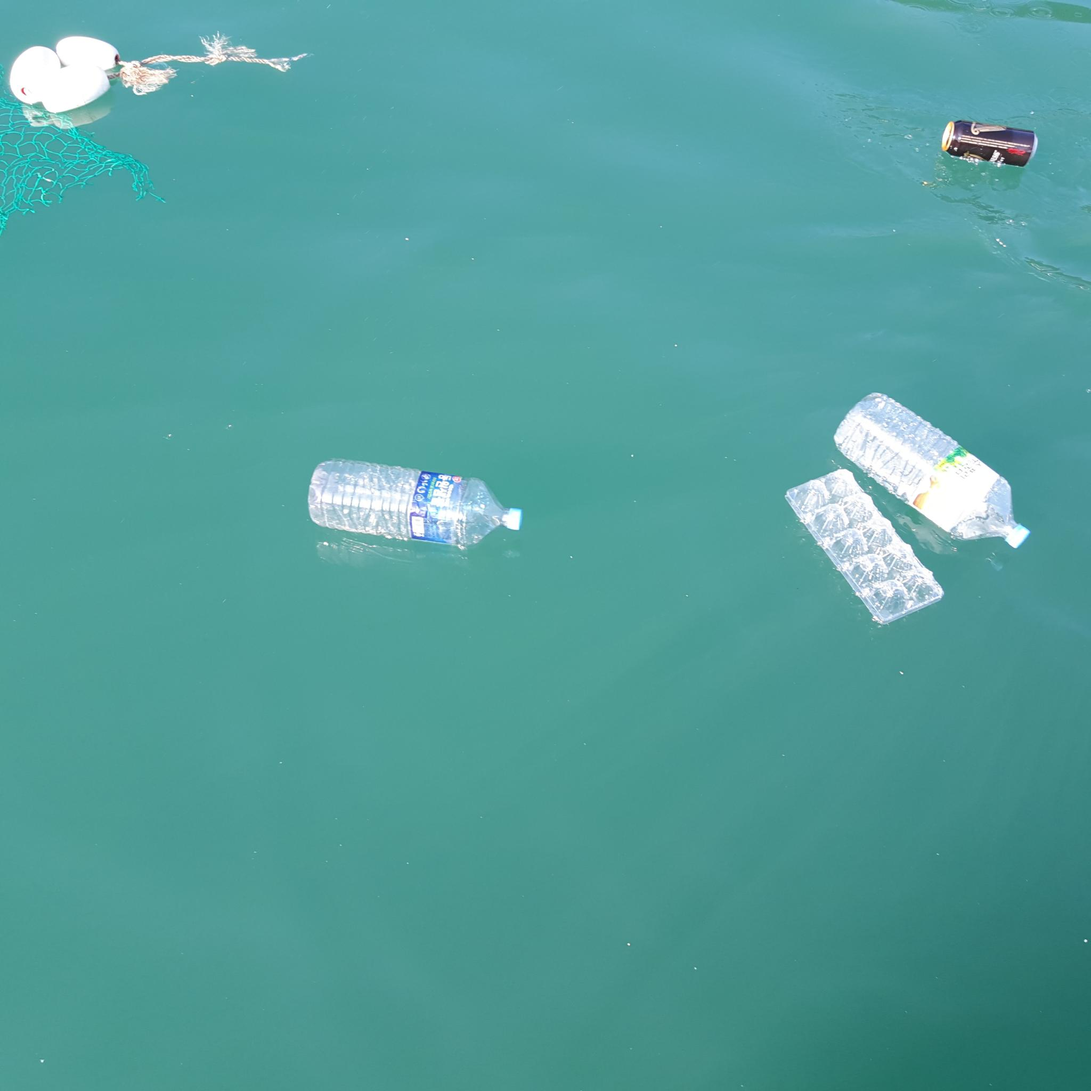sampah_terapung: (834, 393, 1031, 549), (1, 64, 167, 236), (308, 458, 523, 546), (108, 30, 308, 96), (941, 121, 1038, 167), (42, 64, 111, 113), (10, 46, 61, 104), (56, 37, 121, 71)
